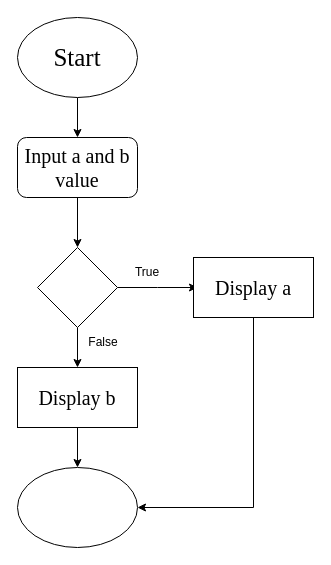
This 331x565 diagram has some shape labels left out. Each missing label, with the box of its shape:
End: (16, 466, 138, 548)
if a > b: (36, 246, 118, 328)
